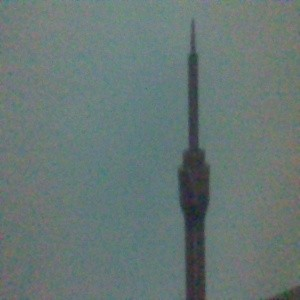solder: (176, 17, 212, 300)
